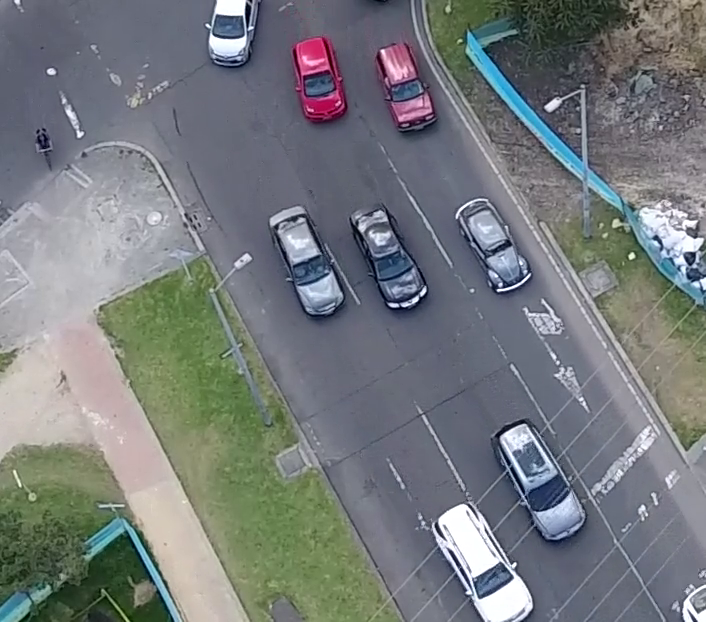car: (488, 414, 588, 545), (267, 201, 345, 321), (350, 202, 427, 315), (456, 195, 532, 298), (372, 39, 438, 133), (292, 35, 347, 125)
